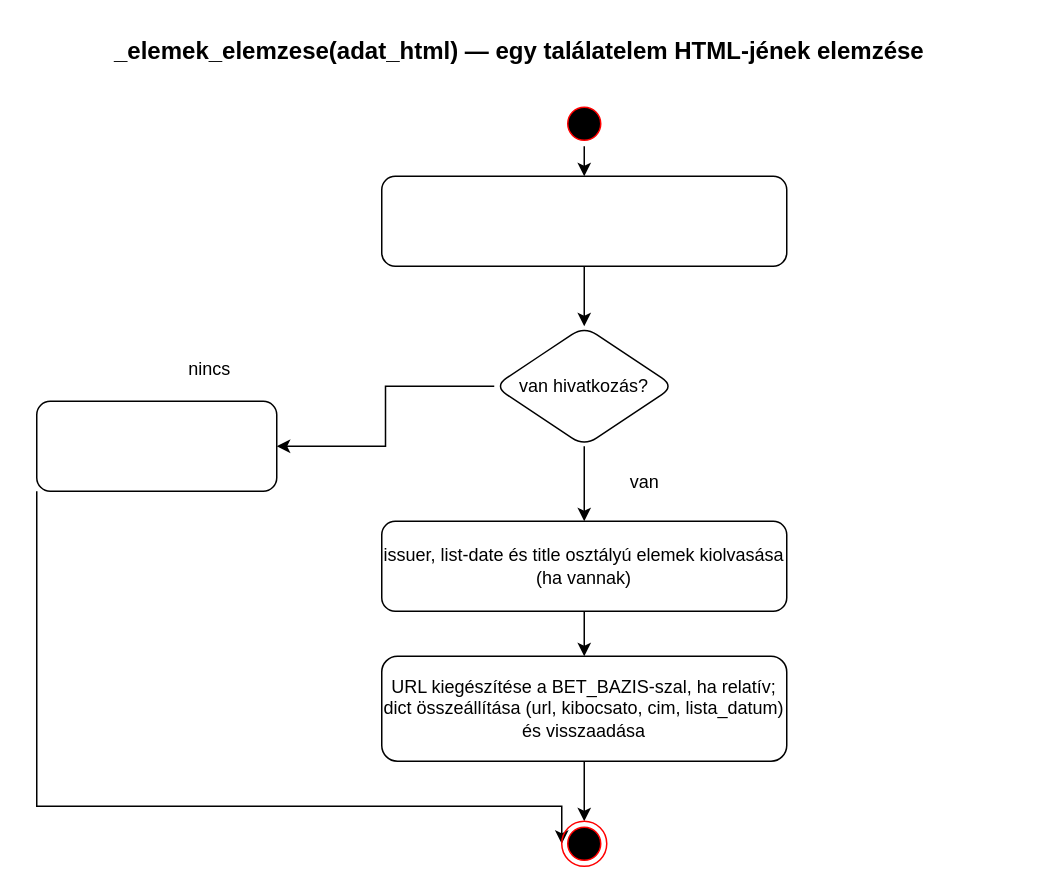
Image size: 1038x893. Some labels were removed from this diagram. The shapes that lost their labels are listed below. From the top down, each one's centre as x and y in pixels, then its label:
(x=583, y=220): HTML feldolgozása (BeautifulSoup); első keresése
(x=156, y=445): None visszaadása
